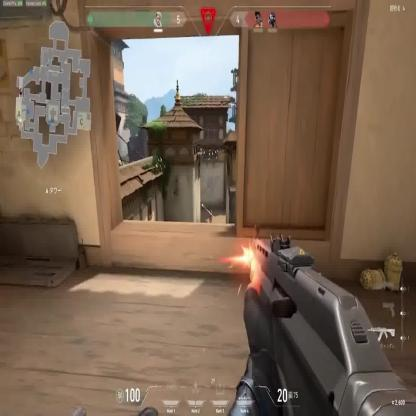enemy: (209, 209, 212, 224)
enemy_head: (210, 208, 211, 212)
